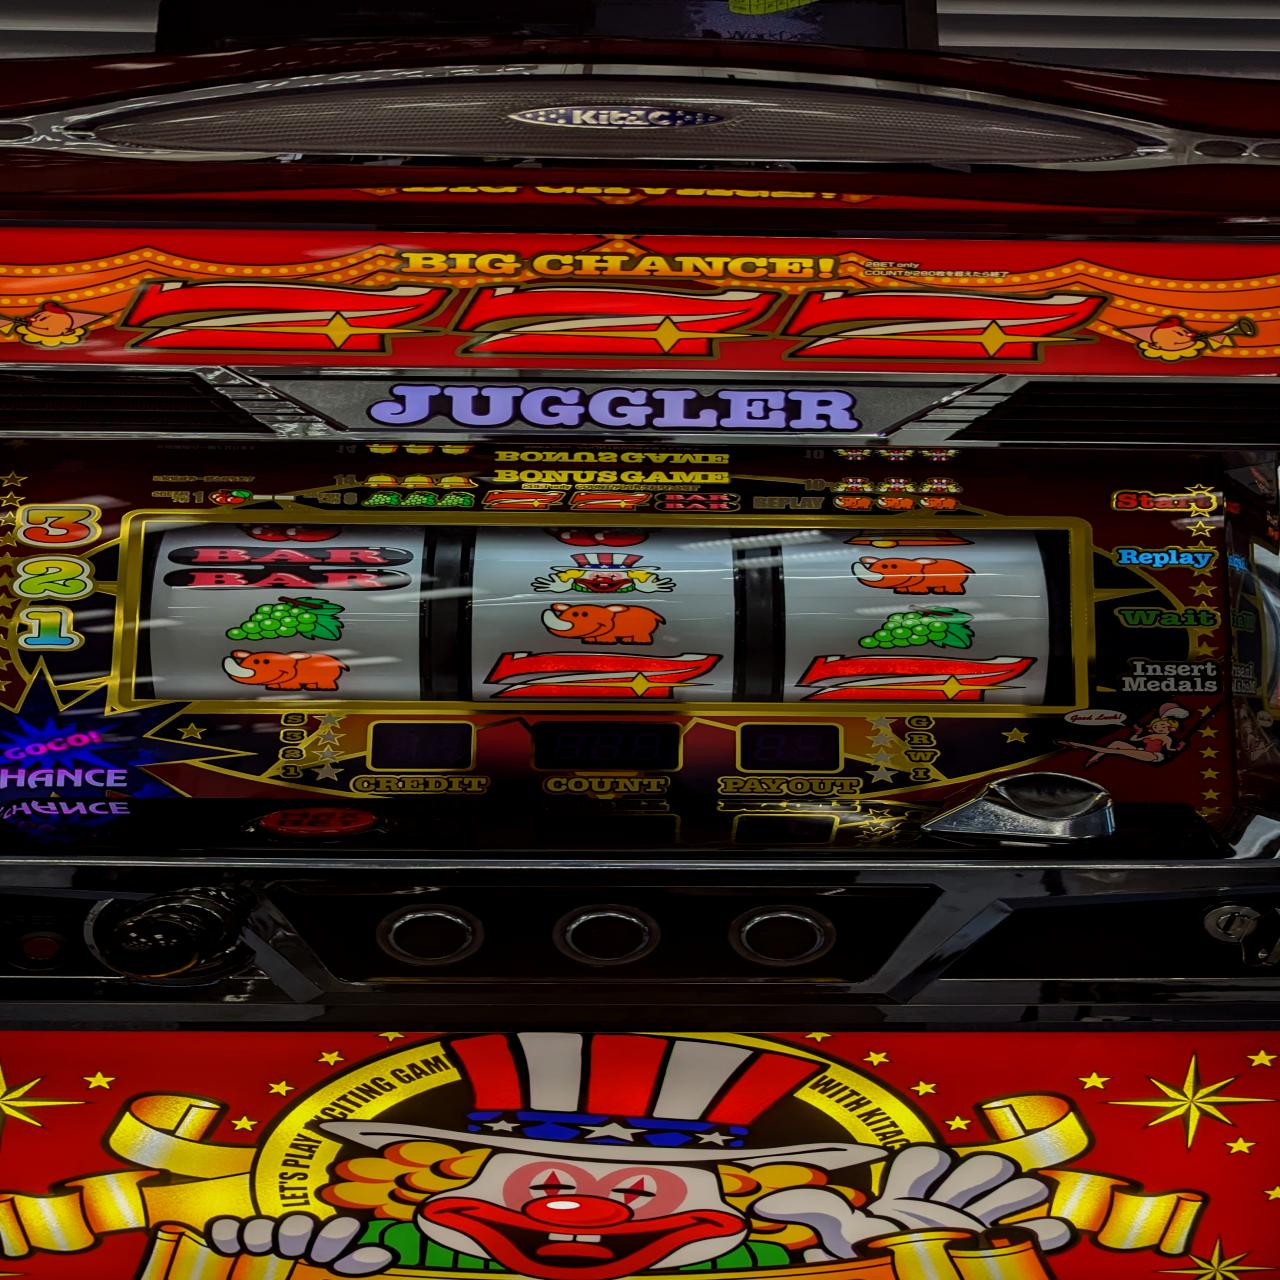7: (794, 654, 1039, 707), (481, 651, 720, 701)
Display: (124, 509, 1087, 712)
bar: (162, 545, 420, 592)
clown: (527, 552, 681, 594)
grape: (853, 602, 980, 651), (223, 597, 347, 644)
rhino: (218, 648, 349, 693), (538, 601, 669, 644), (850, 554, 978, 595)
